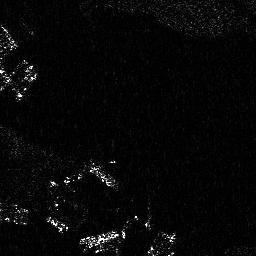ship: (85, 162, 121, 190), (14, 72, 37, 101)
